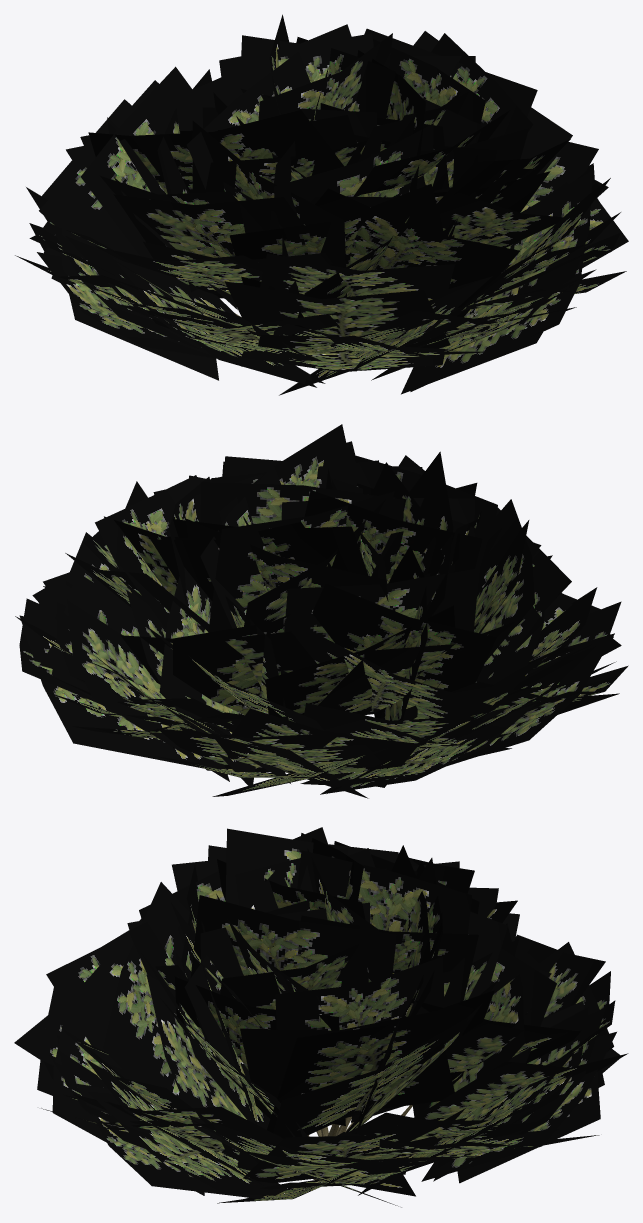
Rendered from shrub-1.glb.
3 views of the same model, one above another, from view 1: azimuth 30°, elevation 25°; view 2: azimuth 150°, elevation 25°; view 3: azimuth 270°, elevation 25° (orthographic). The views are drawn at different scales.
Visible parts, largest first — view 1: shrub-1; view 2: shrub-1; view 3: shrub-1.
Boxes of the visible parts, left/top/right/bottom form: shrub-1: left=15, top=14, right=628, bottom=395; shrub-1: left=15, top=424, right=628, bottom=798; shrub-1: left=14, top=827, right=628, bottom=1207.
Size of the model in its own units: 2 by 1.04 by 1.88.
Materials: 2 (2 with a texture image).
